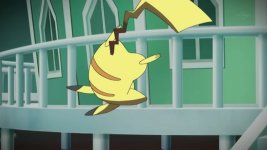pikachu: (64, 1, 217, 121)
